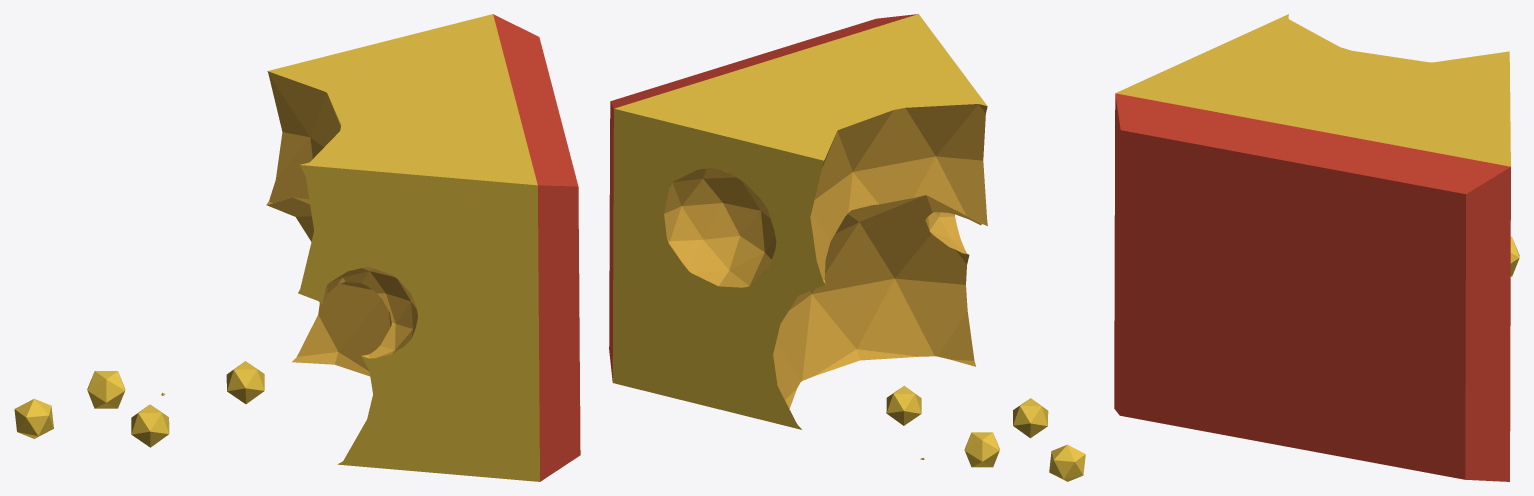
The model's file is Cheese (with 4 bites).fbx.
The picture shows the model from 3 angles, left to right: view 1: azimuth 30°, elevation 25°; view 2: azimuth 150°, elevation 25°; view 3: azimuth 270°, elevation 25°; orthographic projection. The views are drawn at different scales.
Parts seen in each view (by area): view 1: Cheese with 4 bites, Cheese crumb, Cheese crumb.001, Cheese crumb.002, Cheese crumb.003; view 2: Cheese with 4 bites, Cheese crumb, Cheese crumb.001, Cheese crumb.003, Cheese crumb.002; view 3: Cheese with 4 bites.
Boxes of the visible parts, x1,y1,x2,y2 form: Cheese with 4 bites: [161, 14, 580, 481]; Cheese crumb: [14, 398, 53, 438]; Cheese crumb.001: [87, 371, 125, 408]; Cheese crumb.002: [131, 404, 169, 447]; Cheese crumb.003: [226, 361, 264, 403]; Cheese with 4 bites: [609, 14, 987, 459]; Cheese crumb: [1049, 444, 1085, 481]; Cheese crumb.001: [964, 432, 999, 467]; Cheese crumb.003: [886, 385, 921, 425]; Cheese crumb.002: [1013, 398, 1048, 438]; Cheese with 4 bites: [1114, 14, 1510, 481].
Size of the model in its own units: 365 by 201 by 234.
Materials: 3 (3 with a texture image).
